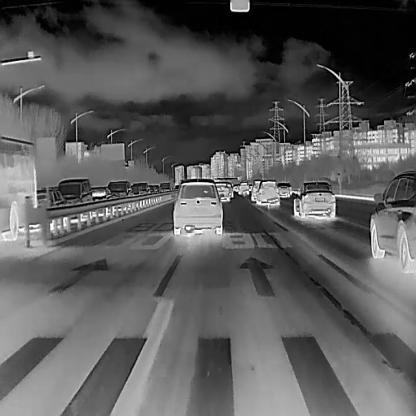car: (369, 168, 416, 274), (0, 134, 38, 241), (170, 177, 224, 236), (293, 180, 335, 218), (56, 176, 91, 208), (35, 185, 64, 214), (254, 180, 280, 205), (106, 179, 133, 200), (90, 184, 111, 205), (214, 181, 230, 202), (250, 178, 263, 201), (276, 181, 289, 197), (237, 181, 250, 197), (130, 182, 142, 199), (158, 180, 171, 193), (148, 184, 157, 195)
